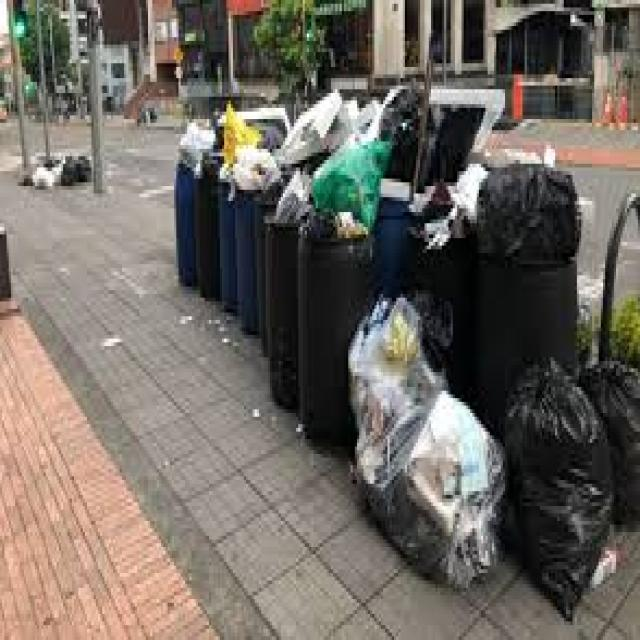garbage: (155, 70, 640, 616)
